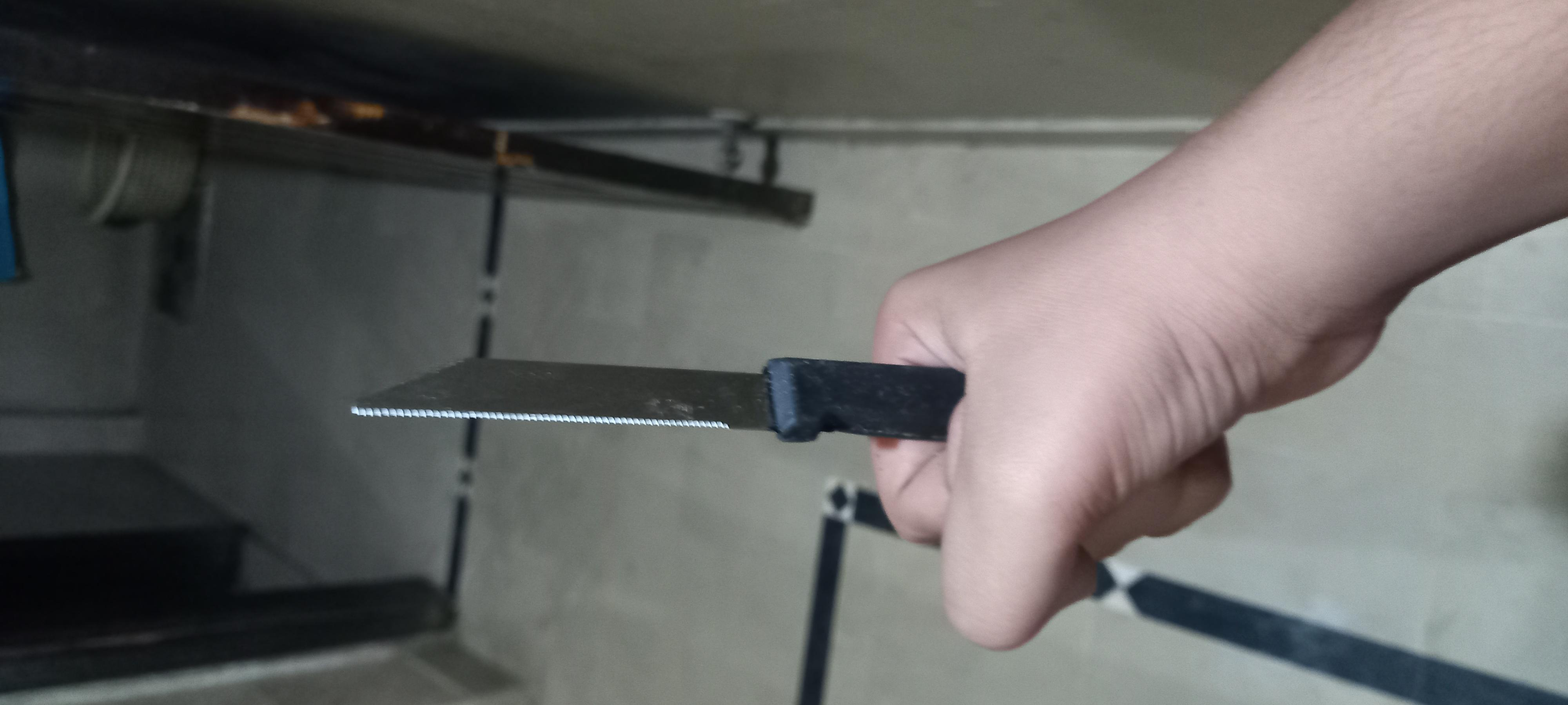knives: (515, 141, 826, 439)
